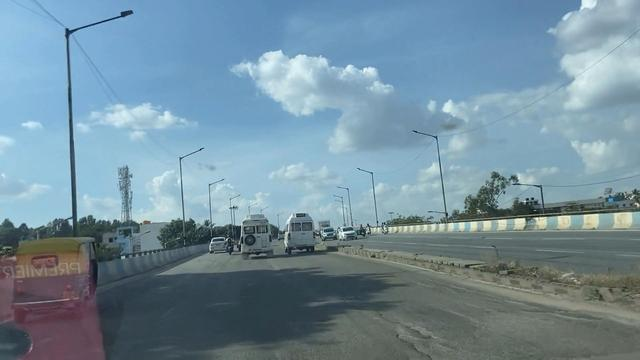HMV: (229, 217, 274, 259), (283, 211, 320, 256)
LMV: (15, 238, 103, 320)
RoadDamages: (347, 289, 461, 360), (506, 302, 594, 359)
